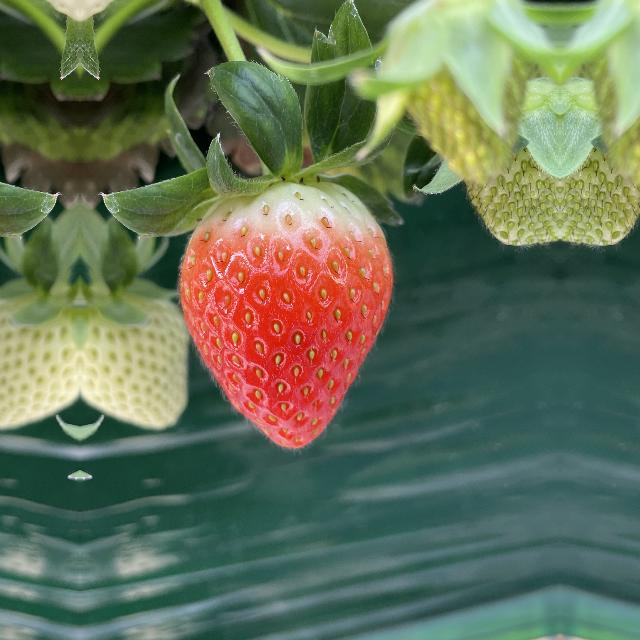Health_100: (179, 162, 393, 458)
